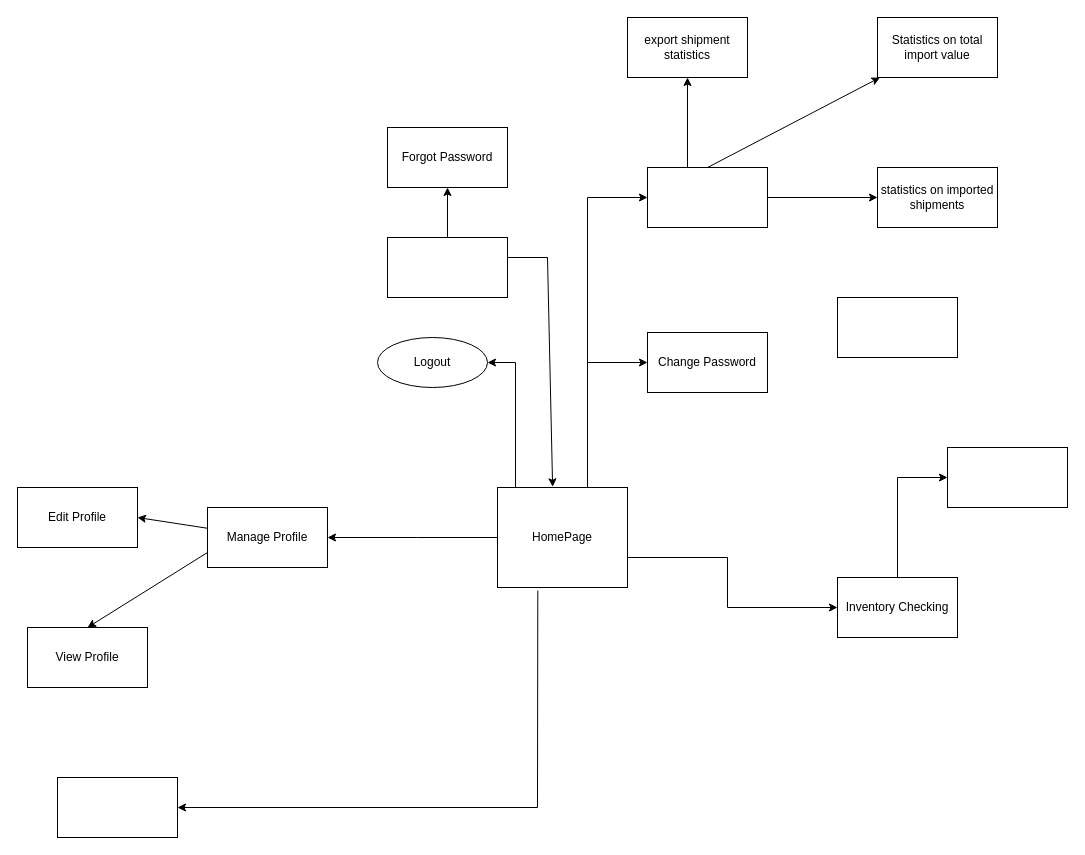
The diagram is 1085 pixels wide and 855 high, and some of its shapes have lost their labels. The shapes that lost their labels are listed below. From the top down, each one's centre as x and y in pixels, then its label:
At point (707, 197): "Manage Statistical Report".
At point (447, 267): "Login".
At point (897, 327): "View Import Order Detail".
At point (1007, 477): "Create Inventory Report After Checking".
At point (117, 807): "View Delivery".
